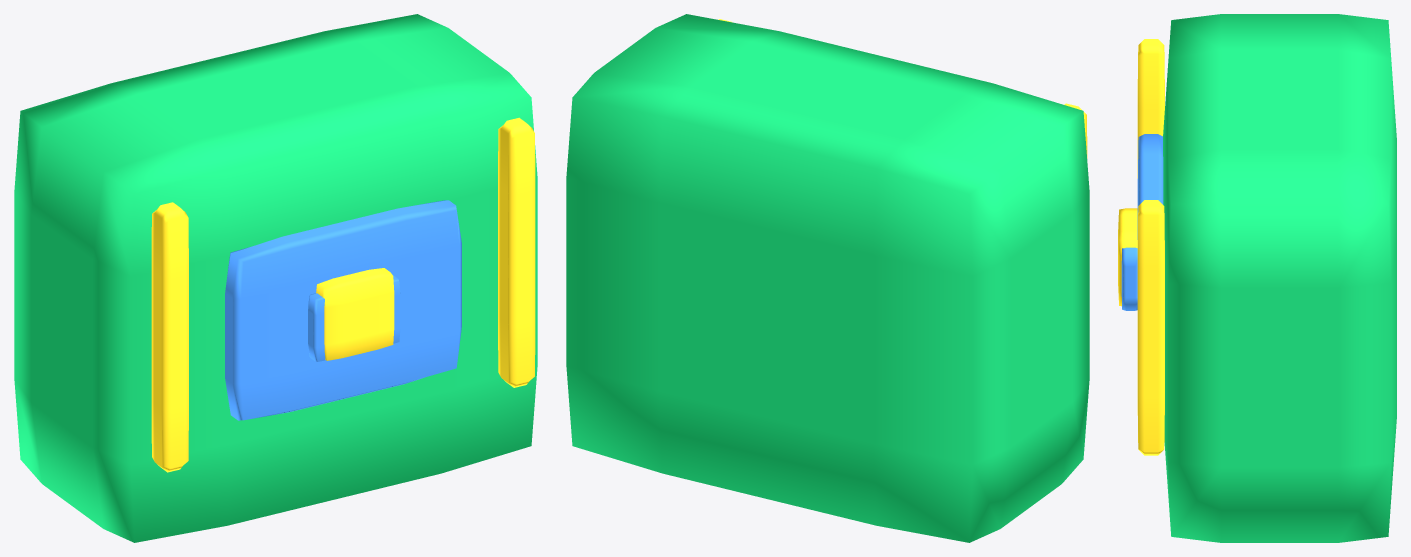
The model's file is uniform-brazil-tech.glb.
The picture shows the model from 3 angles, left to right: view 1: azimuth 30°, elevation 25°; view 2: azimuth 150°, elevation 25°; view 3: azimuth 270°, elevation 25°; orthographic projection. The views are drawn at different scales.
Parts seen in each view (by area): view 1: Torso, Panel, StripeL, StripeR, Core, FlagCore; view 2: Torso; view 3: Torso, StripeR, StripeL, Panel, FlagCore, Core.
Boxes of the visible parts, x1,y1,x2,y2 form: Torso: (14,14,537,542); Panel: (225,200,461,420); StripeL: (151,202,188,472); StripeR: (498,117,535,387); Core: (316,268,394,360); FlagCore: (308,275,400,361); Torso: (566,14,1089,542); Torso: (1163,14,1396,542); StripeR: (1137,200,1164,455); StripeL: (1137,39,1164,178); Panel: (1137,134,1163,239); FlagCore: (1121,247,1137,310); Core: (1118,208,1137,306).
Size of the model in its own units: 2.05 by 1.72 by 1.22.
